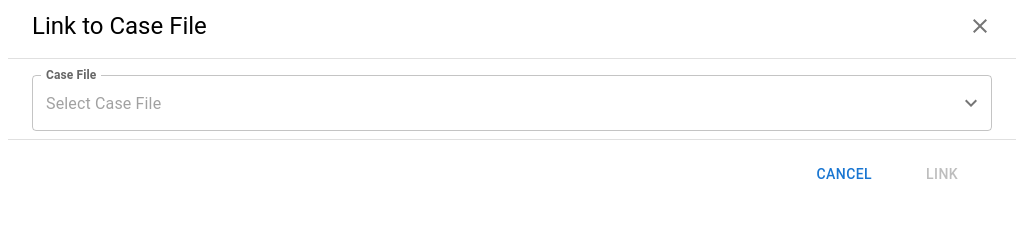
LinkCaseFileModal Component › filters out current file number and linked files in link mode
The width and height of the screenshot is (1024, 238).
Note: Open dropdown
Click the dropdown named "caseFile" at [497, 103], box x1=41 y1=84 x2=953 y2=122
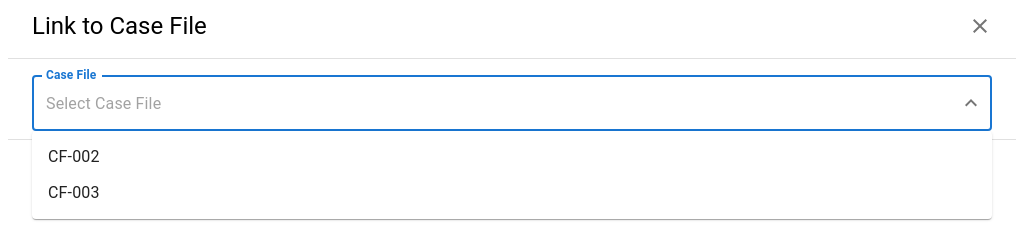
Now the text "CF-002" is shown, box x1=48 y1=145 x2=100 y2=169
Now the text "CF-003" is shown, box x1=48 y1=181 x2=100 y2=205
